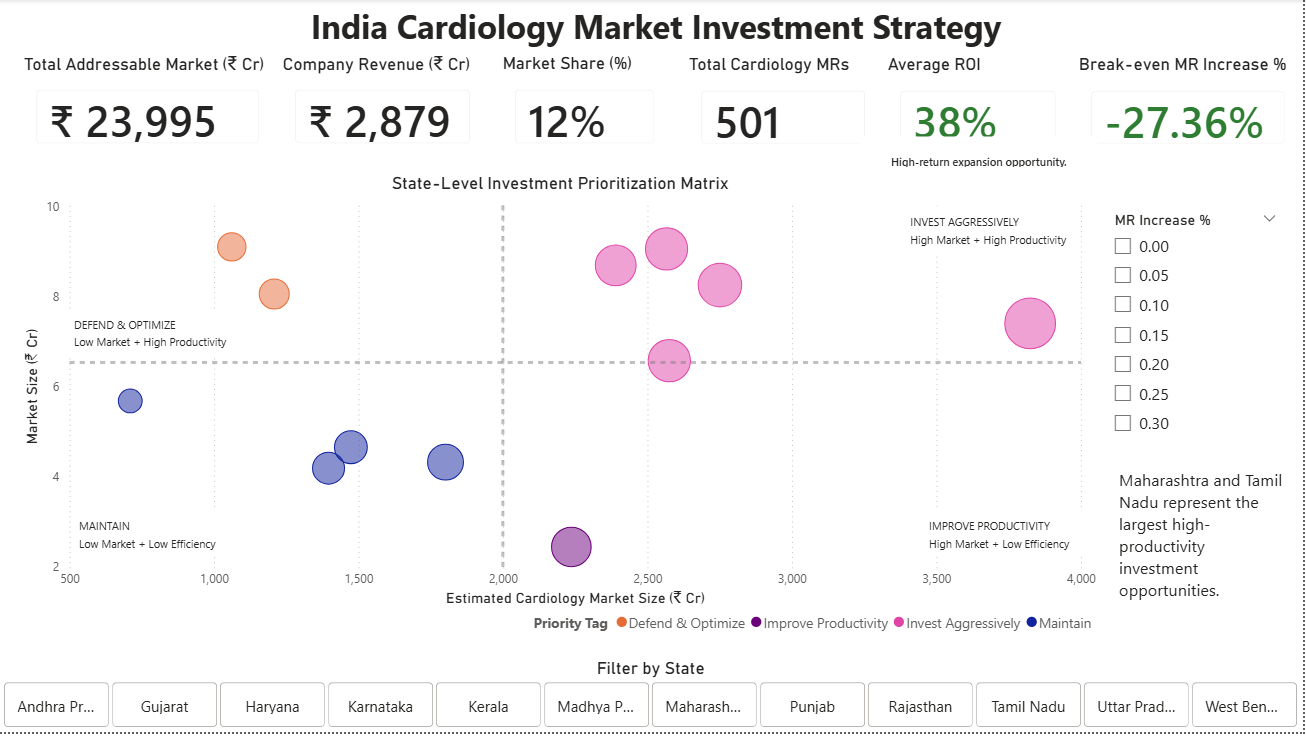

What the dashboard file says about the page in this screenshot:
{"tool":"powerbi","page":{"name":"India Cardiology Market Investment Strategy","canvas":[1280,720],"ordinal":1},"visuals":[{"type":"textbox","box":[9.8,0,1269.9,52.8],"z":0},{"type":"cardVisual","title":"Total Addressable Market (₹ Cr)","fields":{"Data":["Sheet1.Total Market Size (₹ Cr)"]},"box":[19.6,52.8,254,94.5],"z":1000},{"type":"cardVisual","title":"Company Revenue (₹ Cr)","fields":{"Data":["MR Increase %.Simulated Revenue"]},"box":[273.6,52.8,206.1,94.5],"z":2000},{"type":"cardVisual","title":"Total Cardiology MRs","fields":{"Data":["Sheet1.Total MRs"]},"box":[672.4,54,195.1,94.5],"z":3000},{"type":"cardVisual","title":"Average ROI","fields":{"Data":["MR Increase %.Simulated ROI"]},"box":[867.5,54,187.7,94.5],"z":4000},{"type":"scatterChart","title":"State-Level Investment Prioritization Matrix","fields":{"Category":["Sheet1.State"],"X":["Sum(Sheet1.Estimated Cardiology Market Size (₹ Crore))"],"Y":["Sum(Sheet1.Revenue_per_MR)"],"Size":["Sum(Sheet1.Company_Revenue (₹ Crore))"],"Series":["Sheet1.Priority Tag"]},"box":[19.6,170.6,1062.6,460.1],"z":5000},{"type":"advancedSlicerVisual","title":"Filter by State","fields":{"Values":["Sheet1.State"],"Label":["Min(Sheet1.State)"]},"box":[0,646.6,1279.8,73.6],"z":7000},{"type":"cardVisual","title":"Market Share (%)","fields":{"Data":["Sheet1.Market Share %"]},"box":[489.6,52.8,171.8,94.5],"z":8000},{"type":"textbox","box":[889.6,203.7,165.6,45.4],"z":8001},{"type":"textbox","box":[68.7,304.3,168.1,45.4],"z":8002},{"type":"textbox","box":[908,501.8,155.8,45.4],"z":8003},{"type":"textbox","box":[73.6,501.8,155.8,45.4],"z":8004},{"type":"slicer","fields":{"Values":["MR Increase %.MR Increase %"]},"box":[1082.2,173,184.1,228.2],"z":8005},{"type":"cardVisual","title":"Break-even MR Increase %","fields":{"Data":["MR Increase %.Break Even MR %"]},"box":[1055.2,54,224.5,94.5],"z":8006},{"type":"textbox","box":[1098.2,547.2,168.1,83.4],"z":8007},{"type":"tableEx","fields":{"Values":["Sum(MR Scenario.MR Increase %)","MR Scenario.Scenario ROI"]},"box":[1082.2,418.4,182.8,83.4],"z":8008},{"type":"cardVisual","fields":{"Data":["MR Increase %.Dynamic Insight"]},"box":[845.4,135,233.1,47.9],"z":8009}]}

Visuals, with their boxes in screenshot pixels (x1, y1, x2, y2), scaled from the page's 1280x720 canvas onto the 1306x736 screenshot:
textbox: Rect(10, 0, 1305, 54)
"Total Addressable Market (₹ Cr)" cardVisual: Rect(20, 54, 279, 151)
"Company Revenue (₹ Cr)" cardVisual: Rect(279, 54, 489, 151)
"Total Cardiology MRs" cardVisual: Rect(686, 55, 885, 152)
"Average ROI" cardVisual: Rect(885, 55, 1077, 152)
"State-Level Investment Prioritization Matrix" scatterChart: Rect(20, 174, 1104, 645)
"Filter by State" advancedSlicerVisual: Rect(0, 661, 1305, 735)
"Market Share (%)" cardVisual: Rect(500, 54, 675, 151)
textbox: Rect(908, 208, 1077, 255)
textbox: Rect(70, 311, 242, 357)
textbox: Rect(926, 513, 1085, 559)
textbox: Rect(75, 513, 234, 559)
slicer - MR Increase %.MR Increase %: Rect(1104, 177, 1292, 410)
"Break-even MR Increase %" cardVisual: Rect(1077, 55, 1305, 152)
textbox: Rect(1121, 559, 1292, 645)
tableEx - Sum(MR Scenario.MR Increase %) x MR Scenario.Scenario ROI: Rect(1104, 428, 1291, 513)
cardVisual - MR Increase %.Dynamic Insight: Rect(863, 138, 1100, 187)
